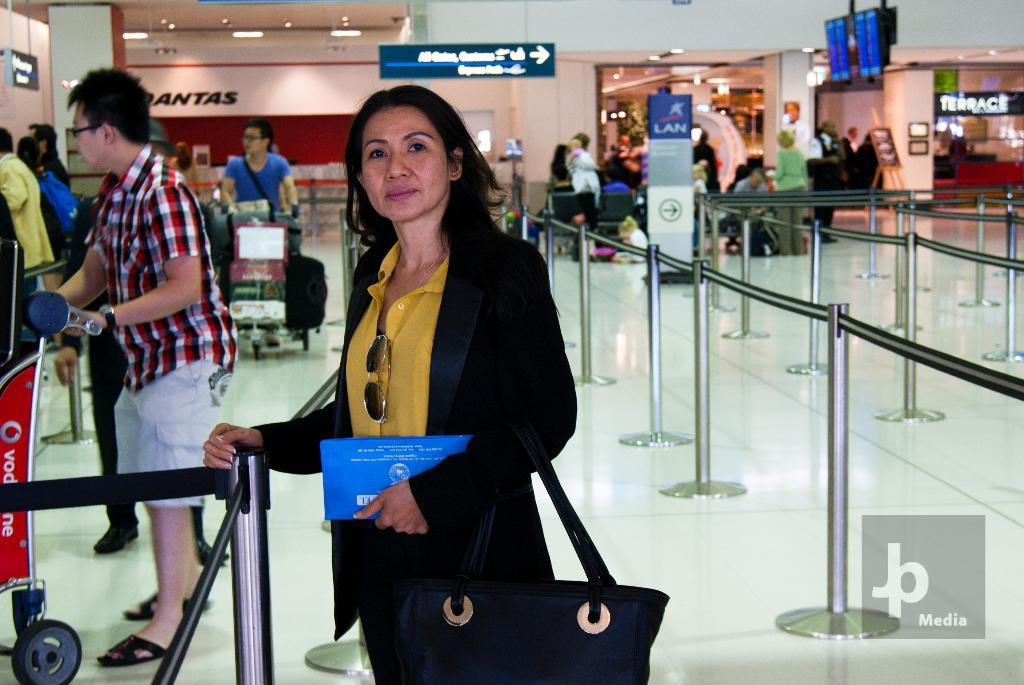Luggage-and-bags: (397, 428, 669, 684), (217, 204, 343, 334), (548, 193, 595, 230), (591, 193, 634, 223)
